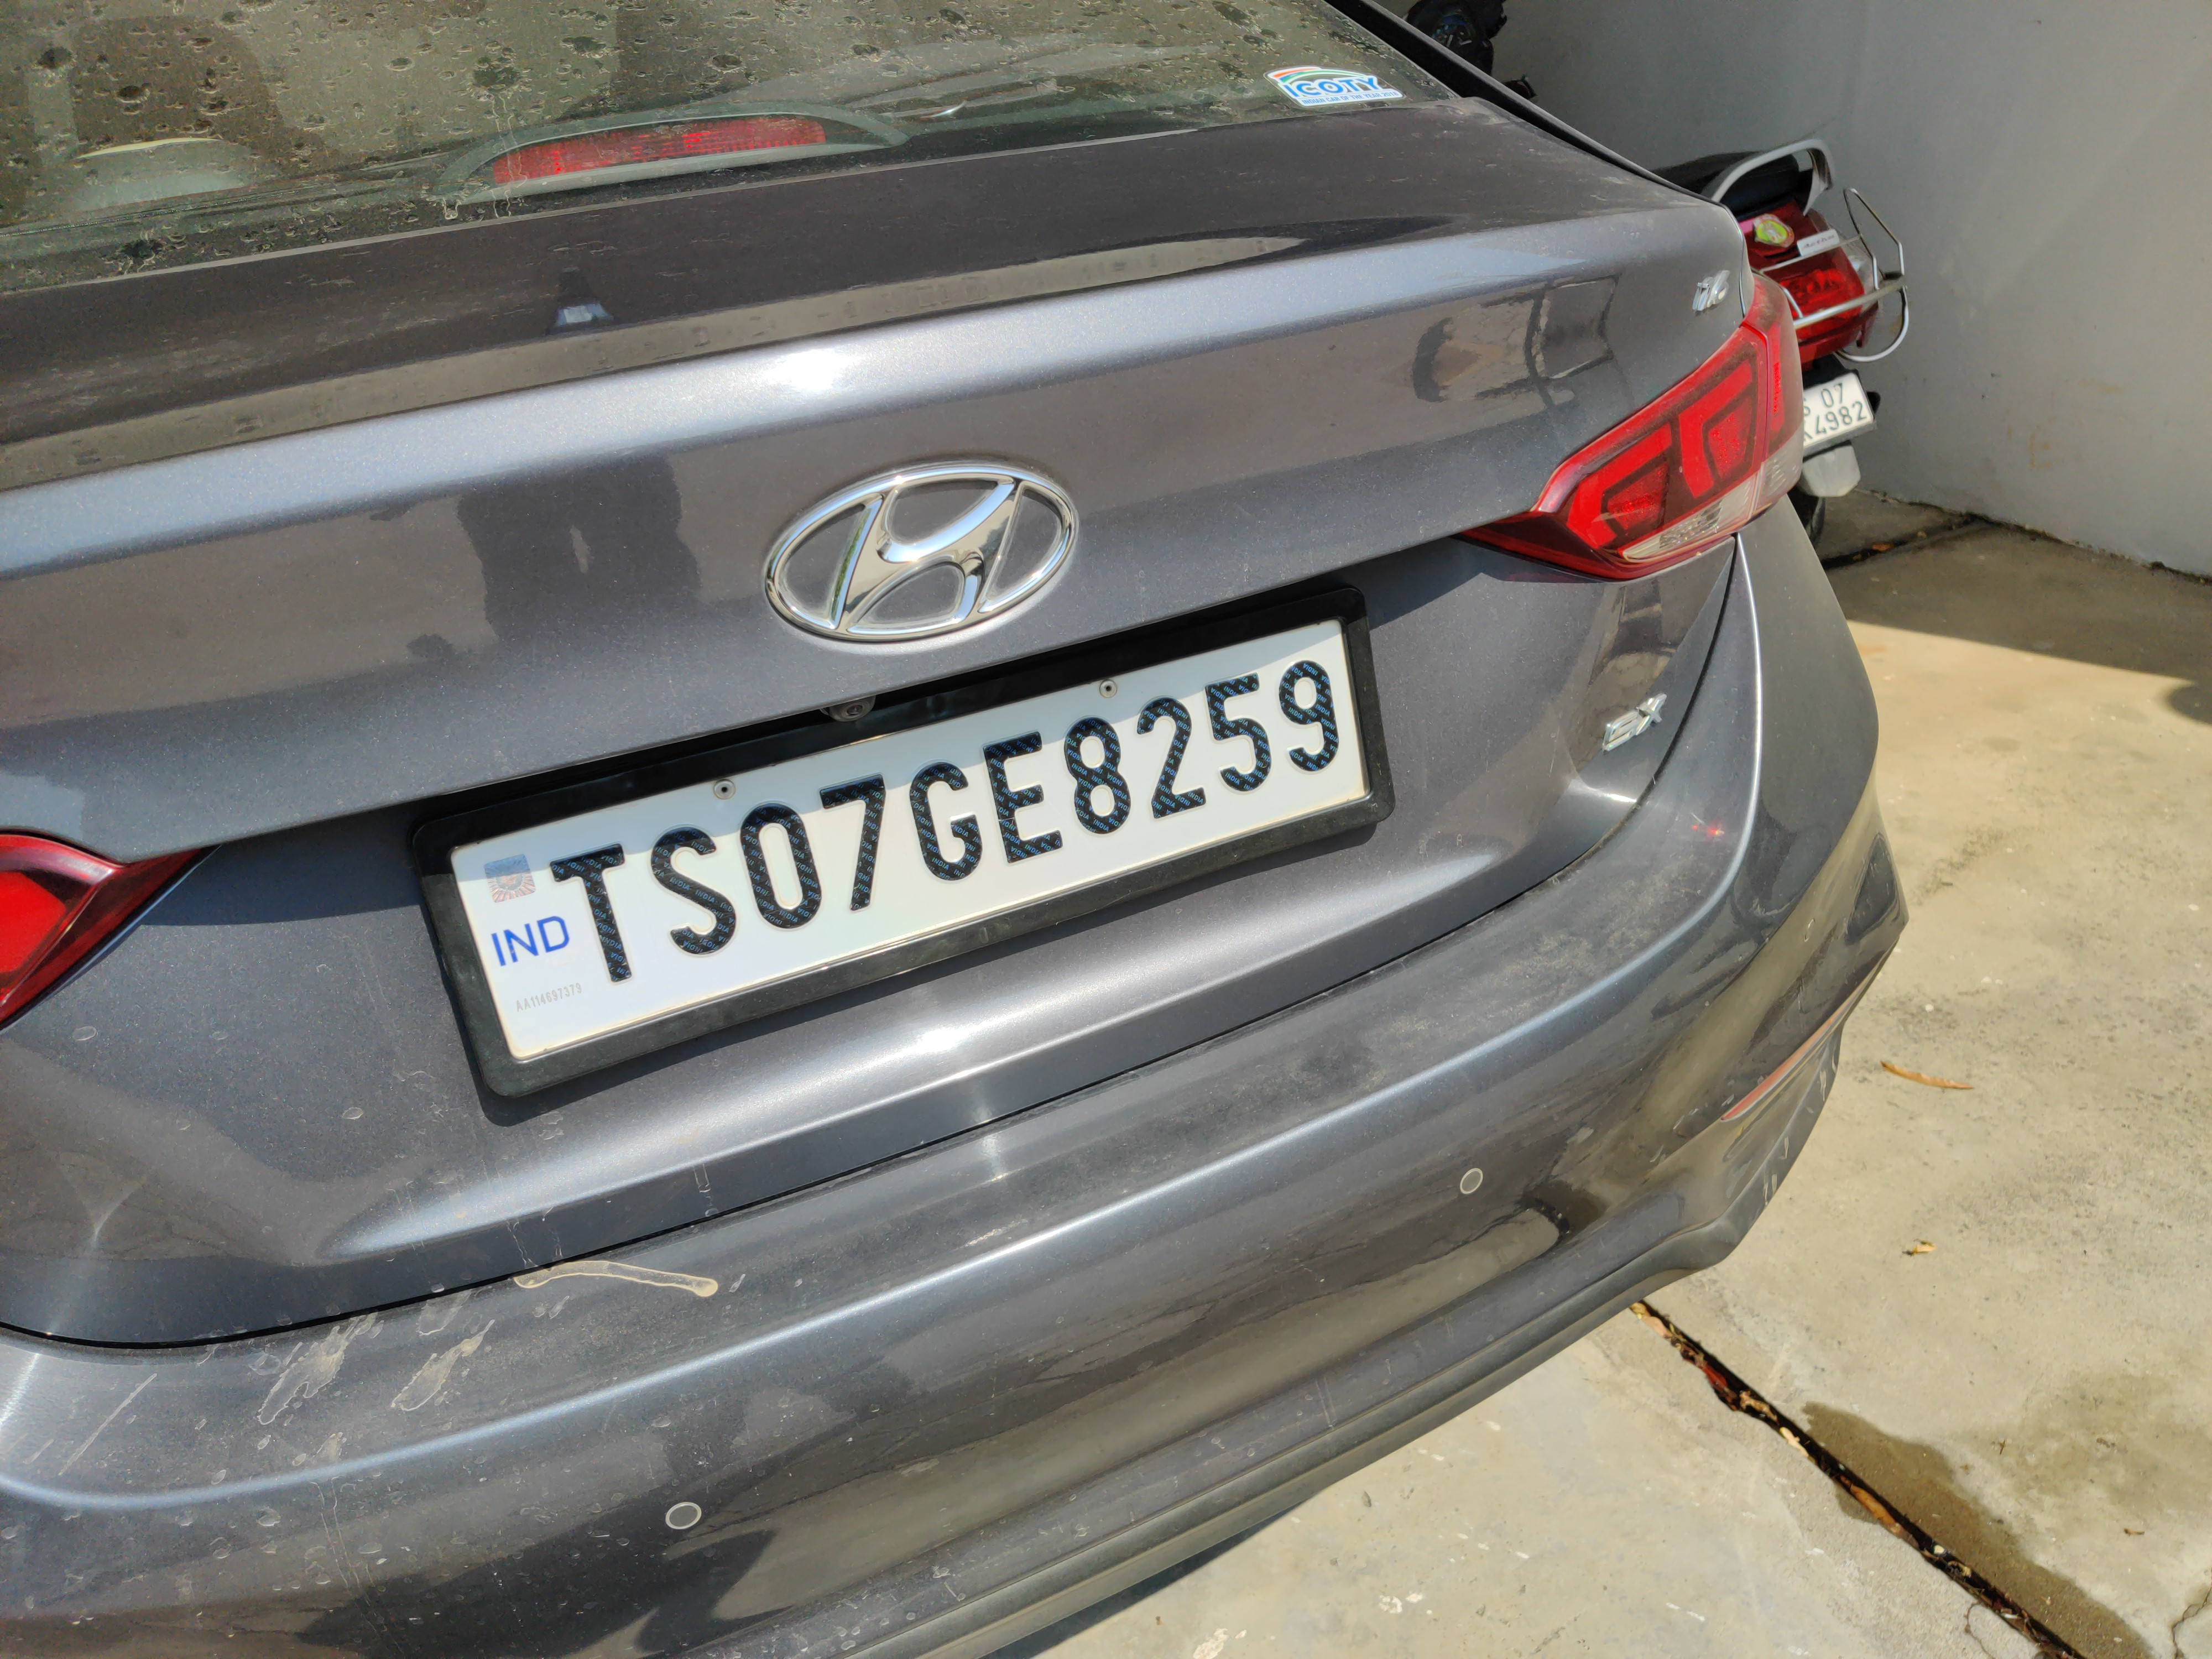plate: (401, 582, 1484, 1099)
